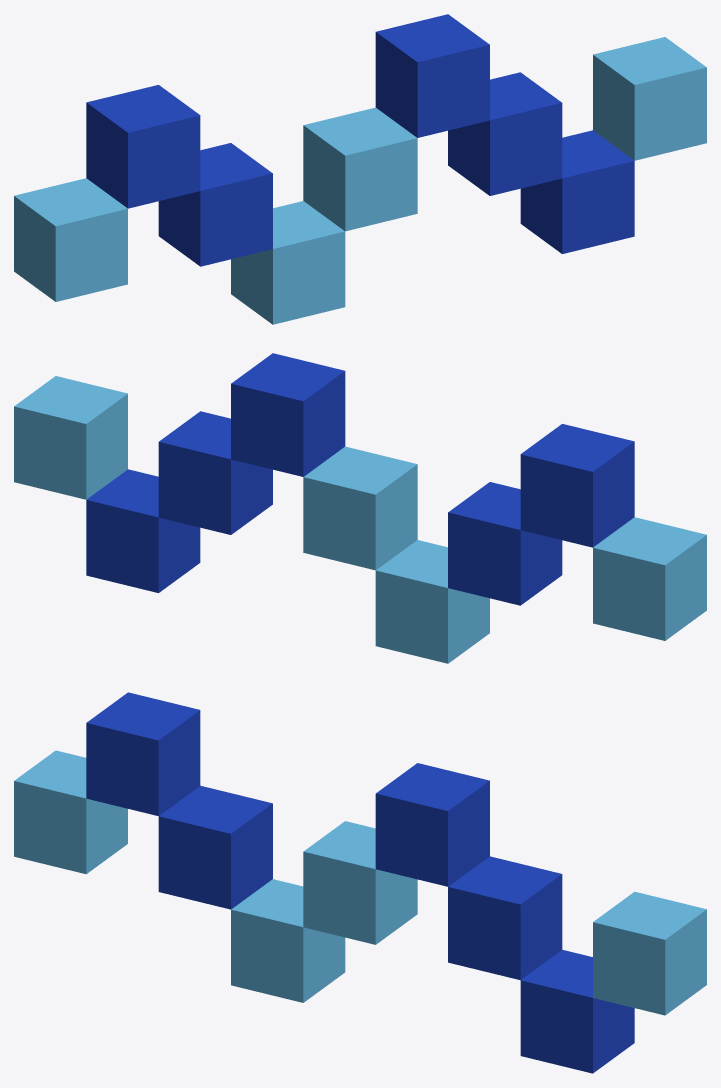
3 renders of one model, top to bottom at view 1: azimuth 30°, elevation 25°; view 2: azimuth 150°, elevation 25°; view 3: azimuth 330°, elevation 25°, orthographic.
Visible parts, largest first — view 1: 75.1; view 2: 75.1; view 3: 75.1.
Boxes of the visible parts, <box> form: 75.1: <box>14,14,706,324</box>; 75.1: <box>14,353,706,663</box>; 75.1: <box>14,692,706,1073</box>.
Bounding box in the file's own units: 90 × 30 × 10.
1 material, 1 textured.
